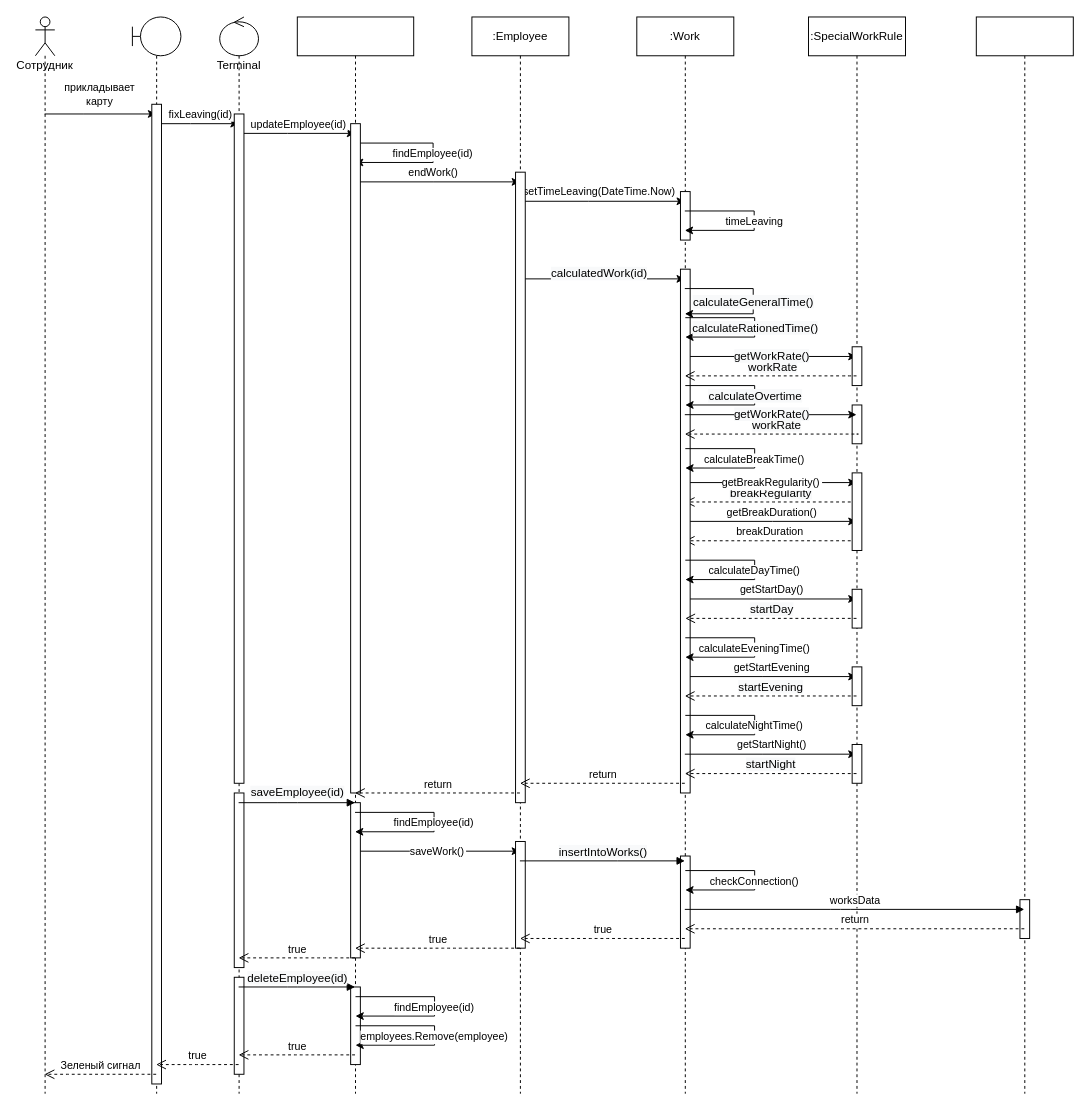
Some shapes in this 1090 by 1111 pixel diagram are drawn without their labels. The box of each missing label's shape, as (x1, y1, x2, y2) in pixels:
:DB(Works): (975, 16, 1073, 1094)
:TimeTrackingSystem: (296, 16, 414, 1094)
Form: (131, 16, 181, 1094)
